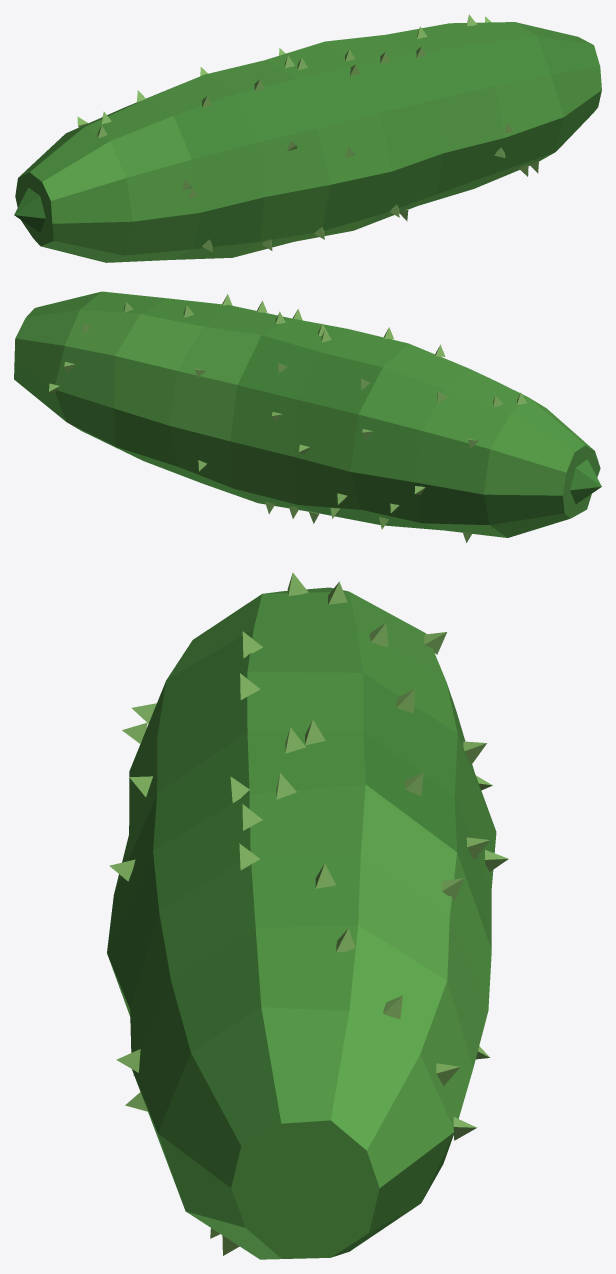
File: cucumber_whole.fbx
The picture shows the model from 3 angles, top to bottom: view 1: azimuth 30°, elevation 25°; view 2: azimuth 150°, elevation 25°; view 3: azimuth 270°, elevation 25°; orthographic projection. The views are drawn at different scales.
Parts seen in each view (by area): view 1: Cuke_BodyA, Cuke_BodyC, Cuke_BodyB, Cuke_Bumps; view 2: Cuke_BodyA, Cuke_BodyB, Cuke_BodyC, Cuke_Bumps; view 3: Cuke_BodyA, Cuke_BodyC, Cuke_BodyB, Cuke_Bumps.
Part boxes in pixels (box(x1,y1,x2,y2)): Cuke_BodyA: box(15, 22, 601, 249); Cuke_BodyC: box(14, 36, 600, 232); Cuke_BodyB: box(41, 108, 597, 262); Cuke_Bumps: box(77, 14, 538, 252); Cuke_BodyA: box(14, 291, 600, 537); Cuke_BodyB: box(14, 309, 593, 509); Cuke_BodyC: box(70, 335, 601, 530); Cuke_Bumps: box(49, 294, 526, 542); Cuke_BodyA: box(107, 587, 496, 1258); Cuke_BodyC: box(153, 630, 457, 1257); Cuke_BodyB: box(186, 784, 491, 1259); Cuke_Bumps: box(109, 572, 508, 1255).
Size of the model in its own units: 565 by 172 by 172.
